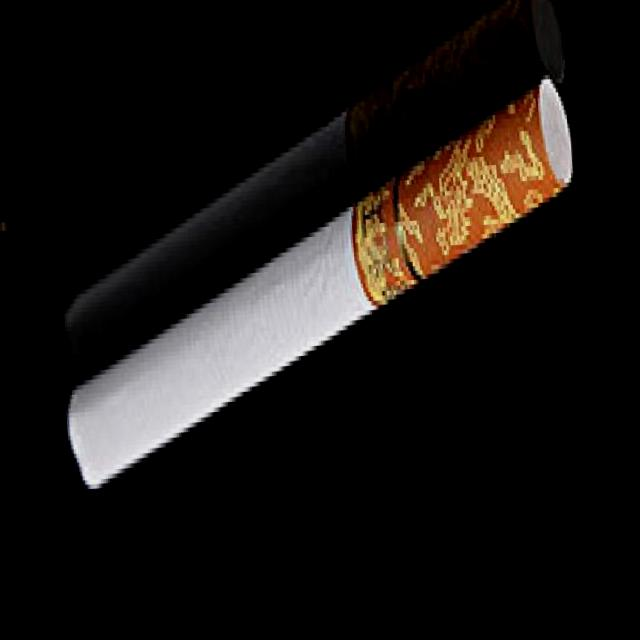smoke: (36, 72, 598, 504)
